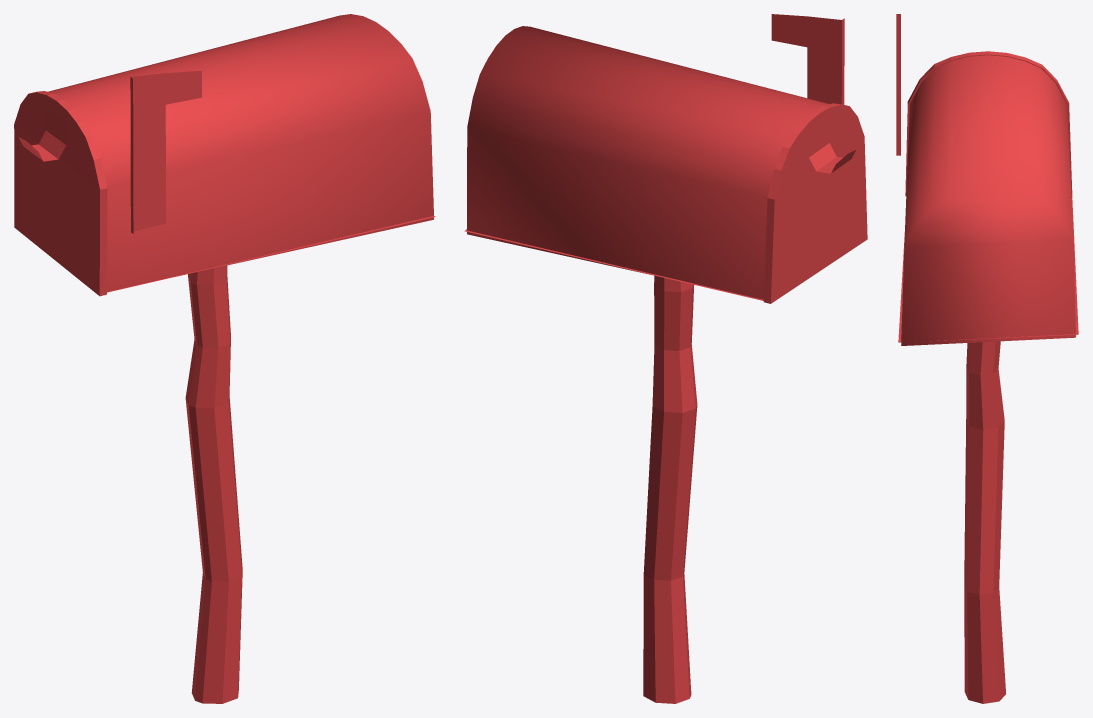
File: boite au lettre.fbx
3 views of the same model, side by side, from view 1: azimuth 30°, elevation 25°; view 2: azimuth 150°, elevation 25°; view 3: azimuth 270°, elevation 25° (orthographic). The views are drawn at different scales.
Visible parts, largest first — view 1: coffre, poteau, clapet, drapeau, poignée; view 2: coffre, poteau, clapet, drapeau, poignée; view 3: coffre, poteau, clapet, drapeau.
Part boxes in pixels (x1,y1,x2,y2): coffre: (48,14,435,292); poteau: (185,265,242,703); clapet: (14,91,107,296); drapeau: (130,70,201,233); poignée: (18,106,66,161); coffre: (464,26,829,300); poteau: (643,275,697,703); clapet: (763,103,867,303); drapeau: (771,14,844,104); poignée: (809,119,855,173); coffre: (898,55,1078,345); poteau: (964,341,1005,703); clapet: (905,51,1072,198); drapeau: (896,14,900,155).
Bounding box in the file's own units: 224 × 408 × 108.
